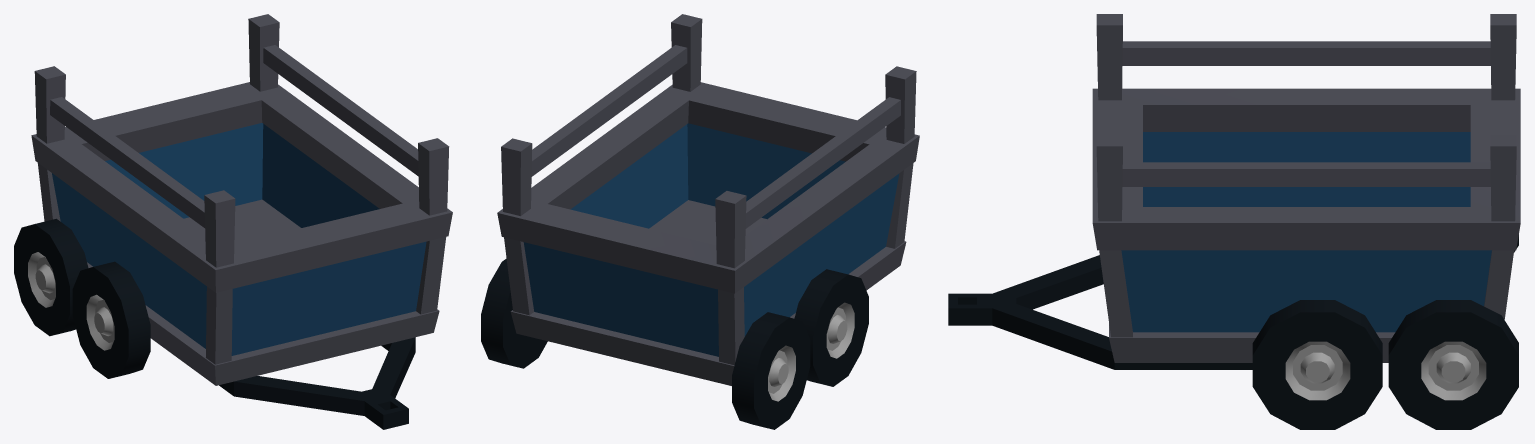
Rendered from Trailer_1.fbx.
3 renders of one model, left to right at view 1: azimuth 30°, elevation 25°; view 2: azimuth 150°, elevation 25°; view 3: azimuth 270°, elevation 25°, orthographic. The views are drawn at different scales.
Visible parts, largest first — view 1: Trailer_1; view 2: Trailer_1; view 3: Trailer_1.
Boxes of the visible parts, x1=… form: Trailer_1: x1=14, y1=14, x2=452, y2=429; Trailer_1: x1=481, y1=14, x2=919, y2=429; Trailer_1: x1=948, y1=14, x2=1520, y2=429.
Size of the model in its own units: 61.72 by 50.48 by 95.94.
